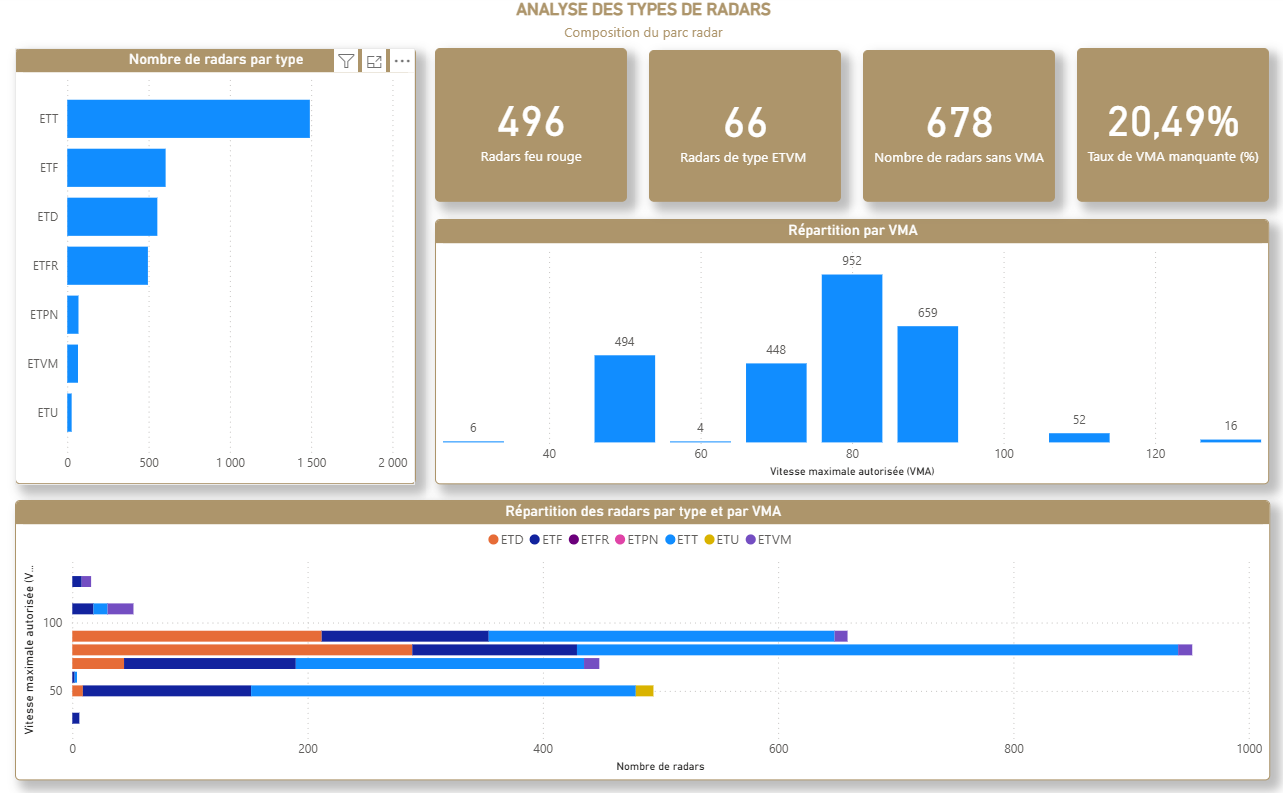

The dashboard page shown, as its layout file describes it:
{"tool":"powerbi","page":{"name":"Analyse des types de radars","canvas":[1283,800],"ordinal":2},"visuals":[{"type":"card","title":"Nombre total de radars fixes","fields":{"Values":["vue_radars_detaillee.Nombre de radars feu rouge"]},"box":[434.3,52.9,191.4,152.9],"z":0},{"type":"shape","title":"ANALYSE DES TYPES DE RADARS","box":[0,4,1282.6,52.7],"z":1000},{"type":"columnChart","title":"Répartition par VMA","fields":{"Category":["vue_radars_detaillee.vma"],"Y":["vue_radars_detaillee.Nombre de radars"]},"box":[434.3,222.9,830,264.3],"z":2000},{"type":"card","title":"Nombre total de radars fixes","fields":{"Values":["vue_radars_detaillee.Nombre de radars vitesse moyenne"]},"box":[647.1,54.3,191.4,151.4],"z":3000},{"type":"card","title":"Nombre total de radars fixes","fields":{"Values":["vue_radars_detaillee.Taux de VMA manquante (%)"]},"box":[1072.9,52.9,191.4,152.9],"z":4000},{"type":"card","title":"Nombre total de radars fixes","fields":{"Values":["vue_radars_detaillee.Nombre de radars sans VMA"]},"box":[860,54.3,191.4,151.4],"z":5000},{"type":"barChart","title":"Nombre de radars par type","fields":{"Category":["vue_radars_detaillee.type_radar"],"Y":["vue_radars_detaillee.Nombre de radars"]},"box":[15.7,52.9,398.6,434.3],"z":6000},{"type":"barChart","title":"Répartition des radars par type et par VMA","fields":{"Category":["vue_radars_detaillee.vma"],"Y":["vue_radars_detaillee.Nombre de radars"],"Series":["vue_radars_detaillee.type_radar"]},"box":[15.7,502.9,1248.6,278.6],"z":7000}]}

Visuals, with their boxes in screenshot pixels (x1, y1, x2, y2), scaled from the page's 1283x800 canvas onto the 1283x793 screenshot:
"Nombre total de radars fixes" card: x1=434, y1=52, x2=626, y2=204
"ANALYSE DES TYPES DE RADARS" shape: x1=0, y1=4, x2=1282, y2=56
"Répartition par VMA" columnChart: x1=434, y1=221, x2=1264, y2=483
"Nombre total de radars fixes" card: x1=647, y1=54, x2=838, y2=204
"Nombre total de radars fixes" card: x1=1073, y1=52, x2=1264, y2=204
"Nombre total de radars fixes" card: x1=860, y1=54, x2=1051, y2=204
"Nombre de radars par type" barChart: x1=16, y1=52, x2=414, y2=483
"Répartition des radars par type et par VMA" barChart: x1=16, y1=498, x2=1264, y2=775
